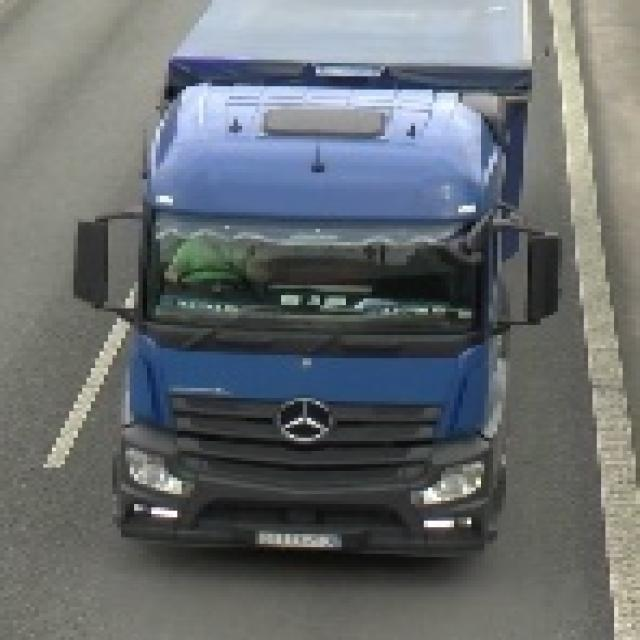TRUCK: (77, 5, 545, 562)
